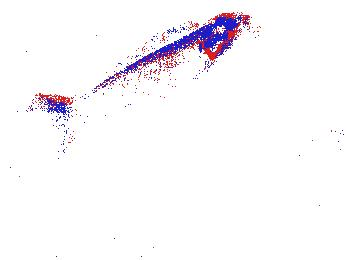X-ray fish: (37, 222, 102, 259), (1, 216, 49, 260), (95, 233, 169, 260)
glassfish: (58, 14, 244, 123), (327, 125, 346, 152)
siberian prawn: (248, 209, 341, 260), (244, 164, 345, 205)
